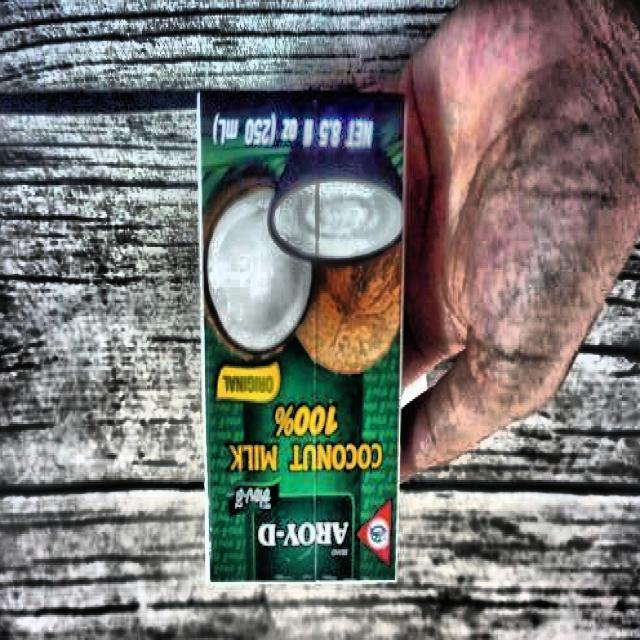cardboard: (197, 90, 408, 586)
